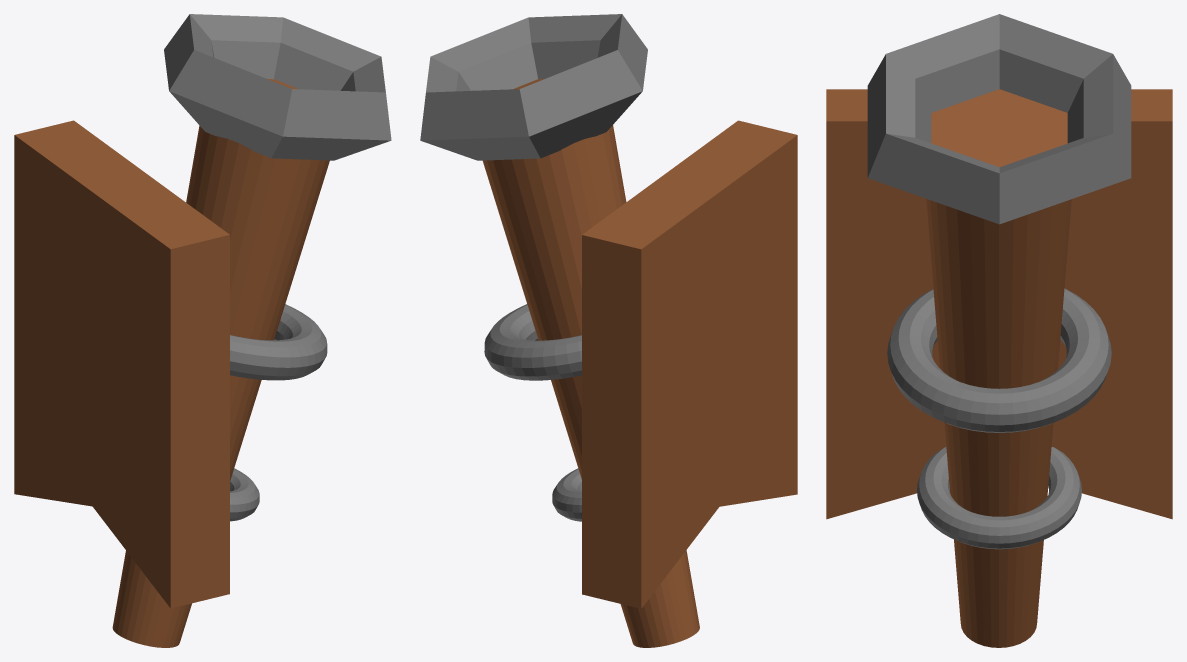
The model's file is Low_Poly_Wall_Torch.fbx.
3 views of the same model, side by side, from view 1: azimuth 30°, elevation 25°; view 2: azimuth 150°, elevation 25°; view 3: azimuth 270°, elevation 25° (orthographic). The views are drawn at different scales.
Parts seen in each view (by area): view 1: Torch; view 2: Torch; view 3: Torch.
Part boxes in pixels (x1,y1,x2,y2): Torch: (14, 14, 391, 647); Torch: (420, 14, 797, 647); Torch: (826, 14, 1172, 647).
Bounding box in the file's own units: 171 × 324 × 158.
